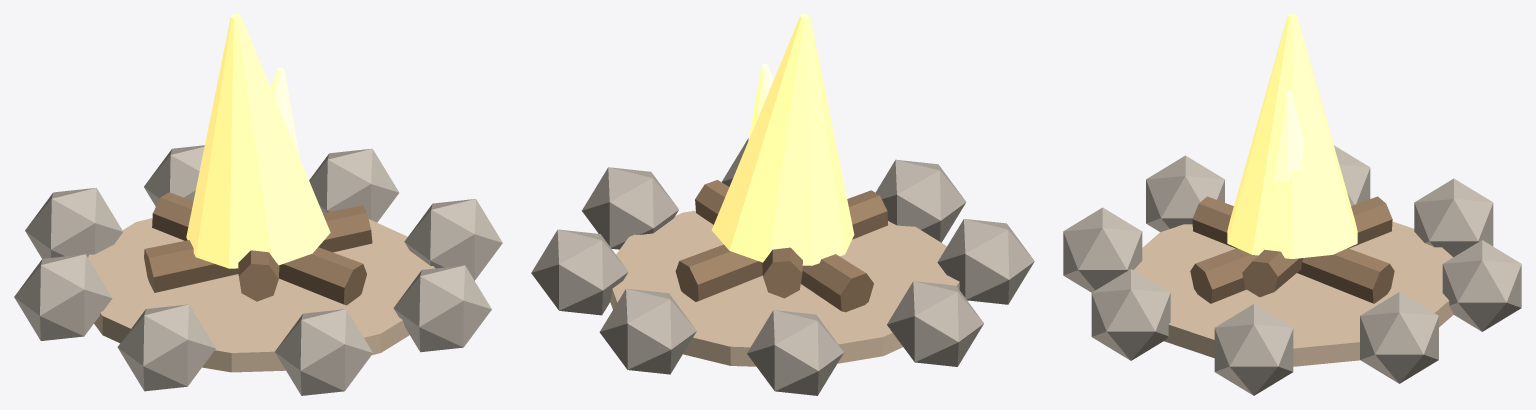
The model's file is campfire.glb.
3 views of the same model, side by side, from view 1: azimuth 30°, elevation 25°; view 2: azimuth 150°, elevation 25°; view 3: azimuth 270°, elevation 25° (orthographic). The views are drawn at different scales.
Visible parts, largest first — view 1: ash, flame_out, stone_3, stone_2, stone_4, stone_1, stone_0, stone_5, log_0, log_2, stone_7, stone_6 (+2 smaller); view 2: ash, flame_out, stone_6, stone_5, stone_4, stone_7, stone_3, stone_0, stone_2, log_1, log_0, log_2 (+1 smaller); view 3: ash, flame_out, stone_0, stone_1, stone_7, stone_6, stone_2, log_1, stone_5, stone_3, log_2, flame_in (+2 smaller).
Part boxes in pixels (left/top/right/bottom): ash: left=88, top=212, right=435, bottom=372; flame_out: left=186, top=14, right=330, bottom=268; stone_3: left=117, top=304, right=215, bottom=391; stone_2: left=275, top=309, right=372, bottom=395; stone_4: left=14, top=254, right=112, bottom=340; stone_1: left=393, top=265, right=491, bottom=352; stone_0: left=404, top=199, right=502, bottom=280; stone_5: left=25, top=187, right=123, bottom=258; log_0: left=144, top=205, right=372, bottom=292; log_2: left=152, top=192, right=366, bottom=305; stone_7: left=309, top=148, right=399, bottom=222; stone_6: left=144, top=145, right=204, bottom=206; ash: left=610, top=210, right=959, bottom=366; flame_out: left=711, top=14, right=854, bottom=265; stone_6: left=599, top=288, right=696, bottom=374; stone_5: left=747, top=310, right=843, bottom=395; stone_4: left=887, top=281, right=983, bottom=366; stone_7: left=531, top=229, right=628, bottom=315; stone_3: left=937, top=219, right=1034, bottom=304; stone_0: left=582, top=167, right=678, bottom=249; stone_2: left=875, top=159, right=966, bottom=242; log_1: left=675, top=190, right=887, bottom=301; log_0: left=695, top=180, right=873, bottom=312; log_2: left=762, top=247, right=802, bottom=298; ash: left=1133, top=221, right=1453, bottom=366; flame_out: left=1227, top=14, right=1357, bottom=258; stone_0: left=1214, top=304, right=1293, bottom=395; stone_1: left=1091, top=269, right=1170, bottom=360; stone_7: left=1360, top=292, right=1438, bottom=383; stone_6: left=1442, top=240, right=1521, bottom=331; stone_2: left=1063, top=207, right=1142, bottom=292; log_1: left=1192, top=196, right=1394, bottom=303; stone_5: left=1414, top=178, right=1493, bottom=257; stone_3: left=1146, top=155, right=1224, bottom=232; log_2: left=1190, top=196, right=1392, bottom=303; flame_in: left=1271, top=91, right=1303, bottom=181.
Bounding box in the file's own units: 1.2 × 0.8087 × 1.2.
